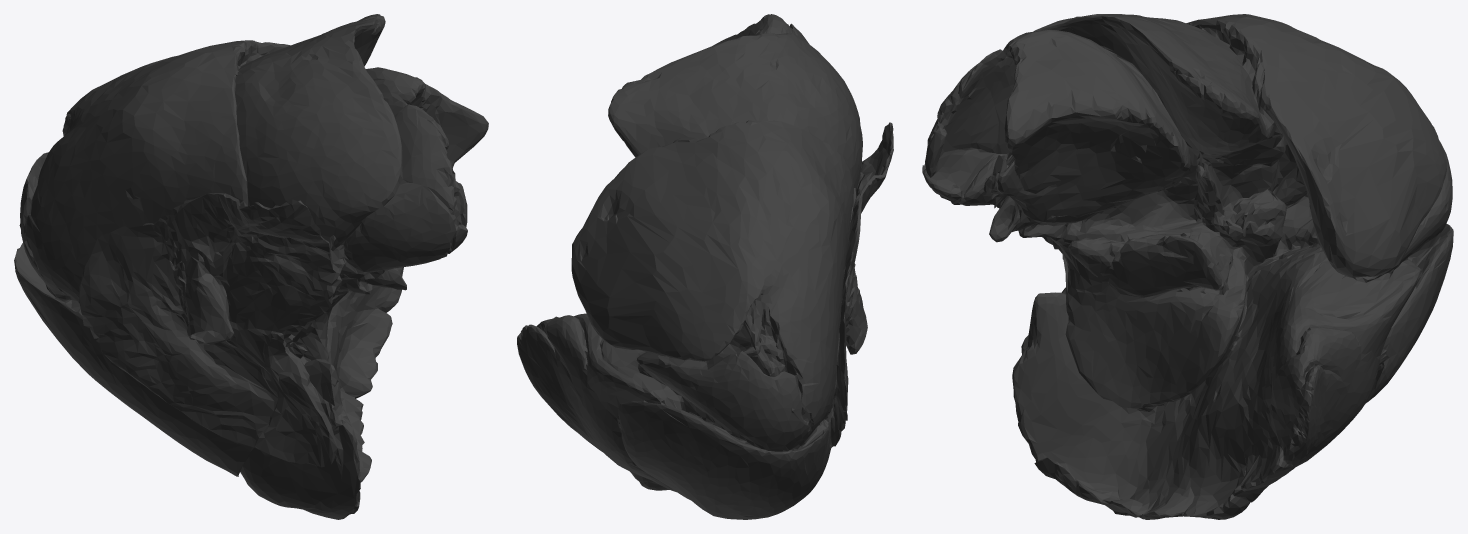
The model's file is liver.glb.
3 views of the same model, side by side, from view 1: azimuth 30°, elevation 25°; view 2: azimuth 150°, elevation 25°; view 3: azimuth 270°, elevation 25° (orthographic). The views are drawn at different scales.
Parts seen in each view (by area): view 1: liver; view 2: liver; view 3: liver.
Part boxes in pixels (bbox=[...]): liver: bbox=[14, 14, 488, 519]; liver: bbox=[517, 14, 893, 519]; liver: bbox=[922, 14, 1453, 519].
Size of the model in its own units: 0.00976 by 0.0128 by 0.0122.
Materials: 1 (1 with a texture image).
